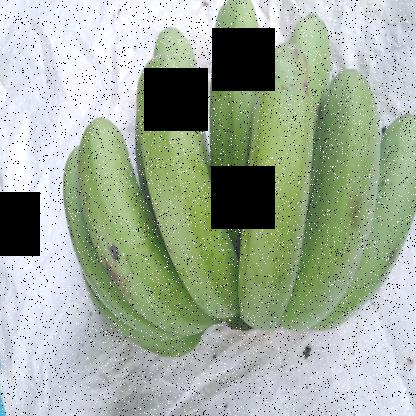unripe: (132, 48, 258, 333), (276, 58, 386, 352), (239, 35, 326, 348), (72, 108, 190, 334), (356, 94, 415, 342), (212, 0, 267, 227)
